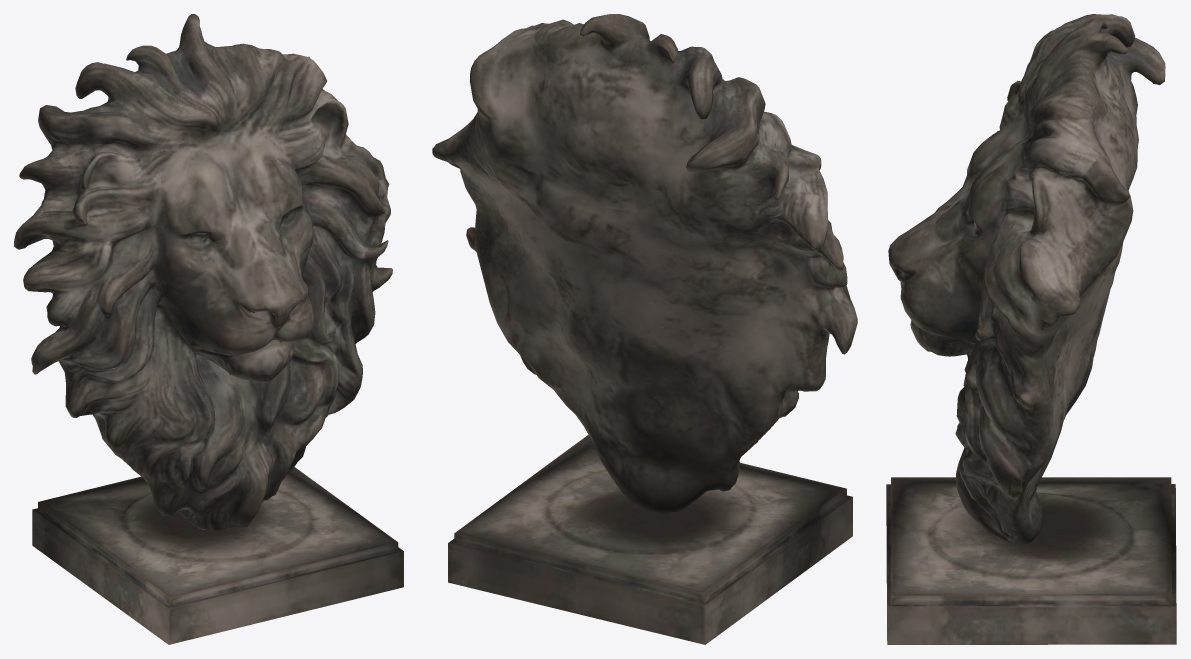
The model's file is ph-lion-head.glb.
3 views of the same model, side by side, from view 1: azimuth 30°, elevation 25°; view 2: azimuth 150°, elevation 25°; view 3: azimuth 270°, elevation 25° (orthographic). The views are drawn at different scales.
Parts seen in each view (by area): view 1: lion_head; view 2: lion_head; view 3: lion_head.
Part boxes in pixels (x1=…): lion_head: x1=14, y1=14, x2=403, y2=644; lion_head: x1=432, y1=14, x2=857, y2=644; lion_head: x1=886, y1=14, x2=1176, y2=644.
Size of the model in its own units: 0.2499 by 0.3396 by 0.161.
1 material, 1 textured.
